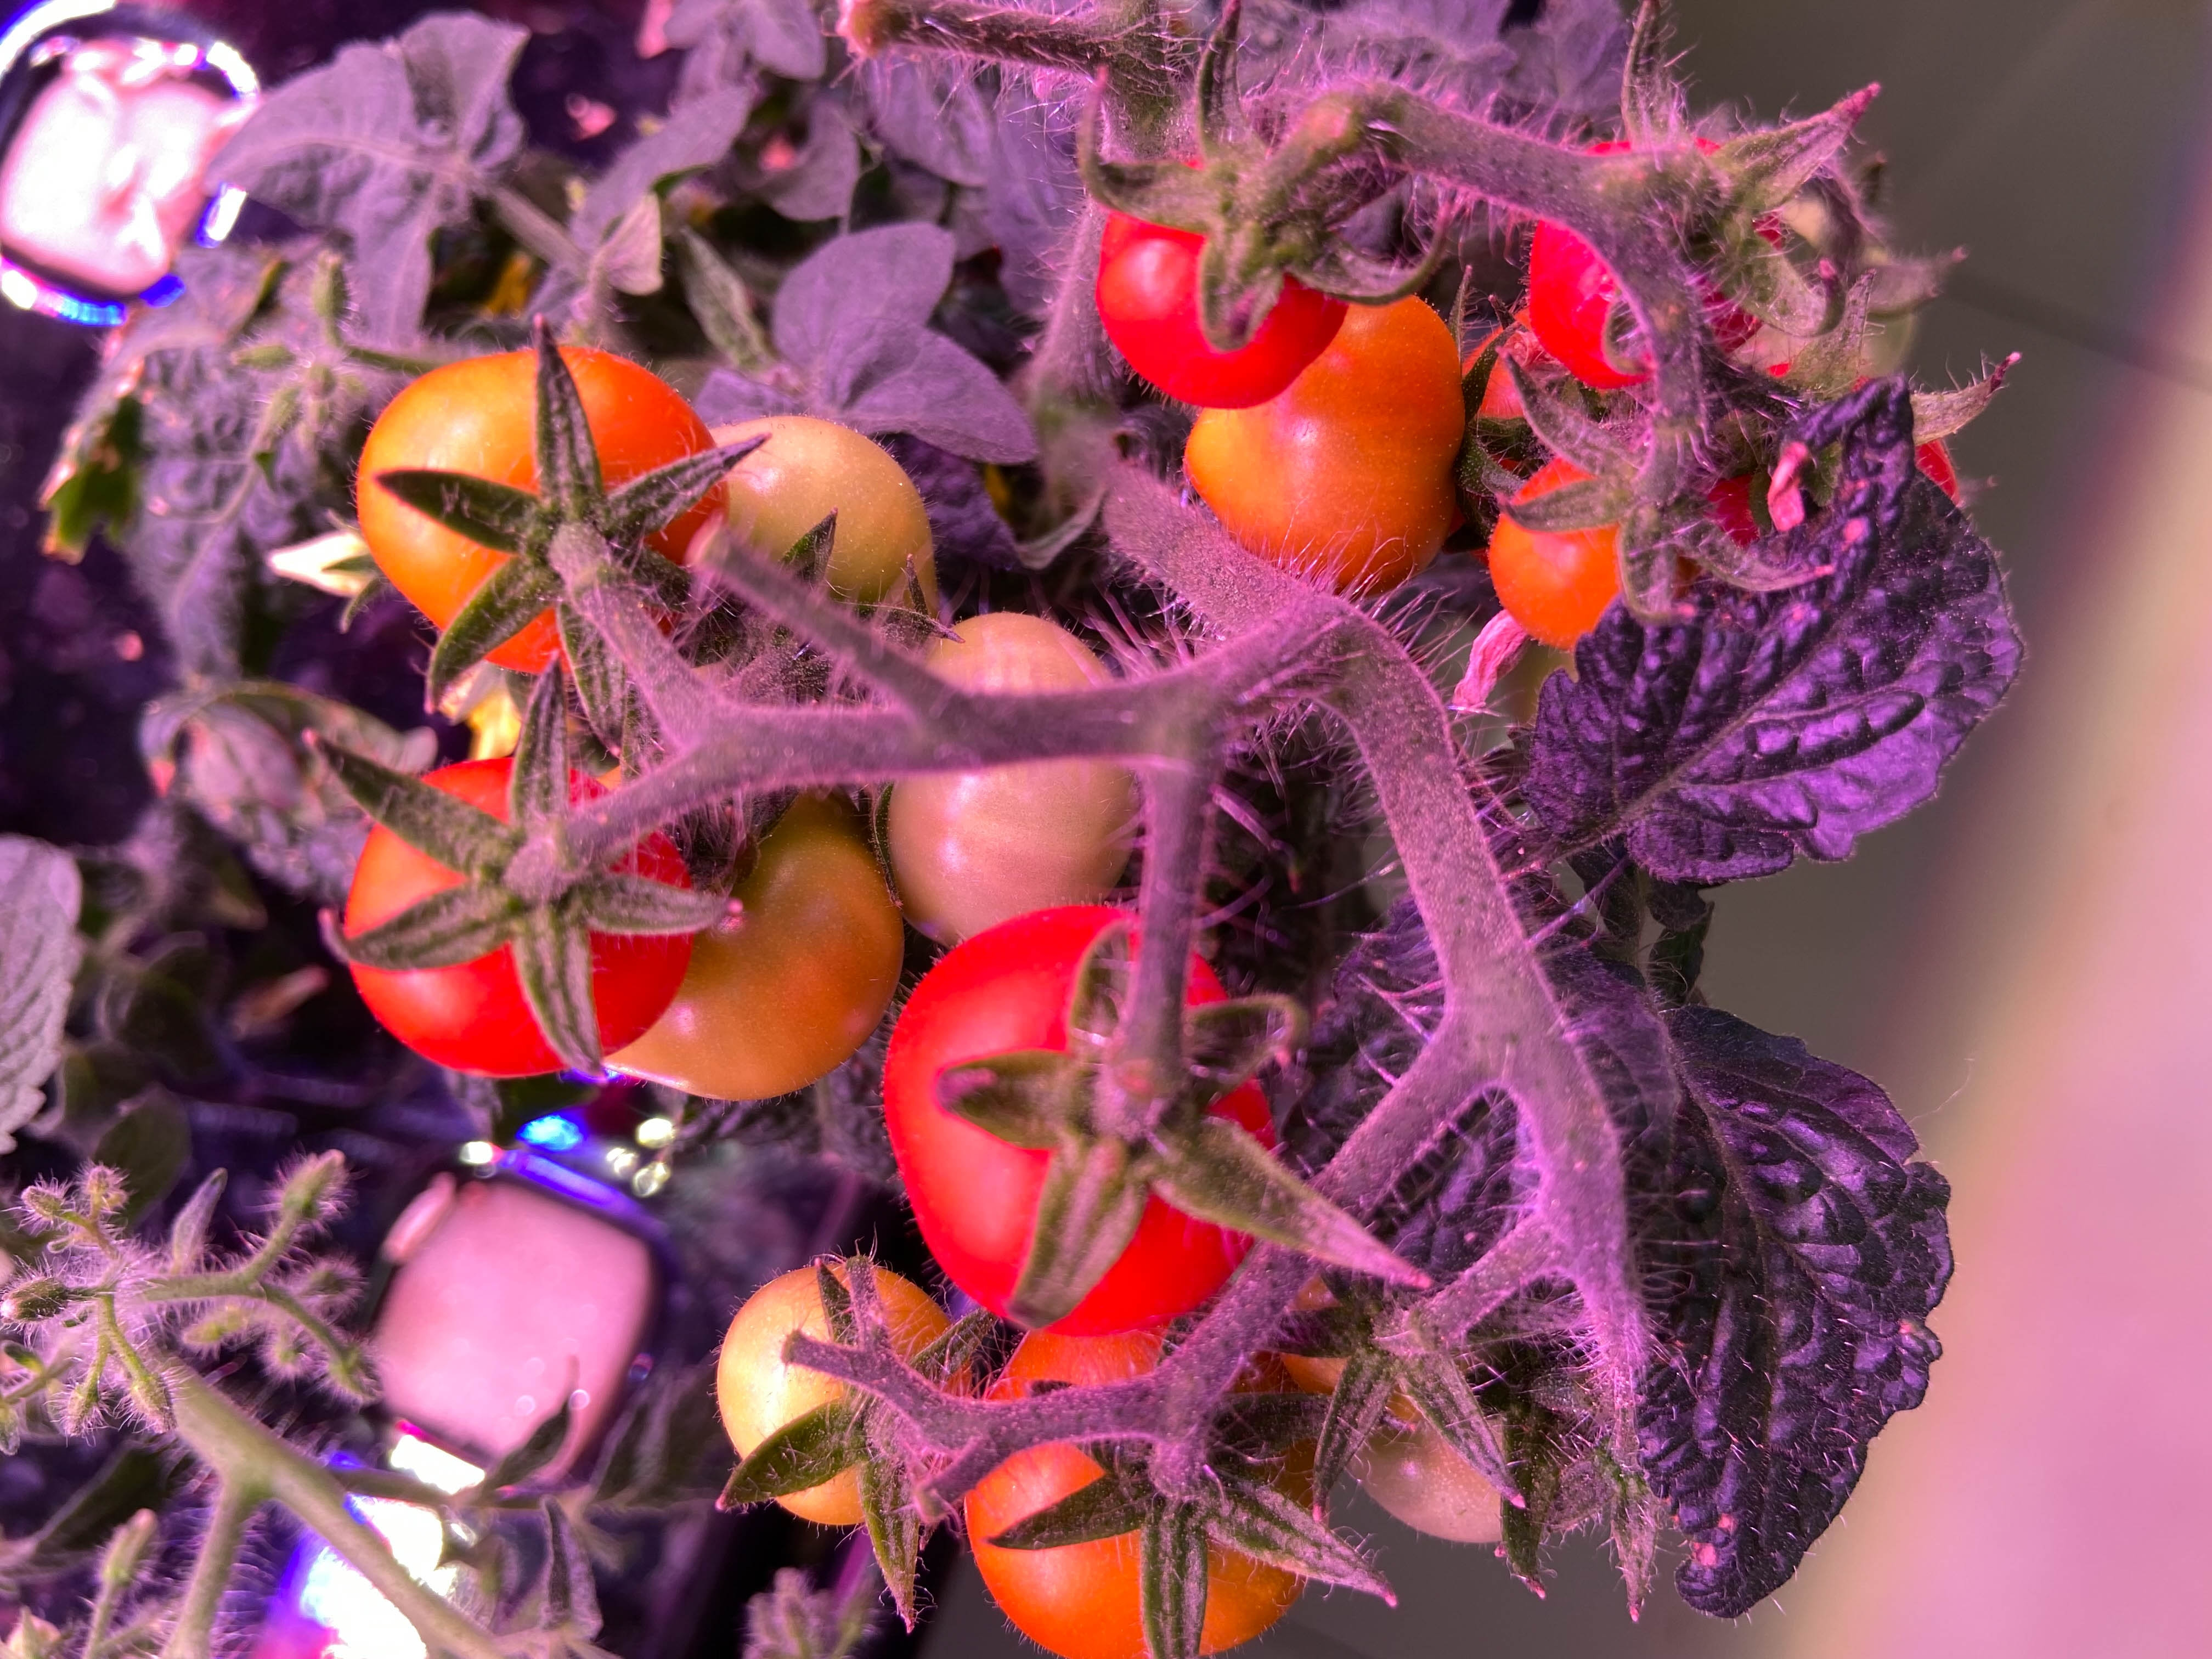green: (876, 603, 1148, 939), (617, 798, 906, 1101), (698, 408, 934, 645), (1343, 1352, 1548, 1547)
red: (885, 911, 1278, 1347), (355, 331, 730, 674), (961, 1314, 1310, 1659), (338, 748, 697, 1080), (1515, 141, 1862, 420), (1179, 258, 1465, 596), (711, 1256, 968, 1525), (1096, 146, 1355, 411), (1710, 429, 1986, 591), (1484, 441, 1695, 650), (456, 680, 535, 760)
